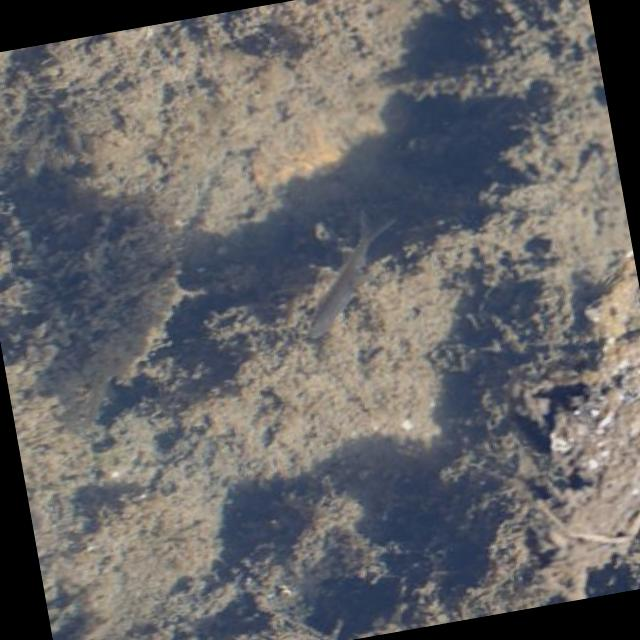Cakil Baligi: (284, 208, 416, 344)
